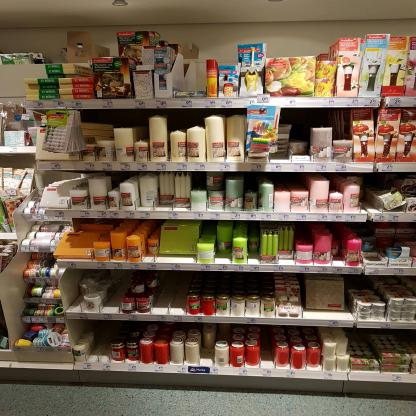Void: (194, 274, 268, 292), (157, 273, 186, 312), (176, 56, 206, 88), (64, 270, 80, 312), (104, 274, 119, 313), (360, 176, 377, 210), (260, 329, 274, 368), (92, 324, 107, 360), (275, 175, 306, 190), (348, 329, 370, 344), (349, 278, 375, 290), (291, 125, 309, 142), (190, 176, 205, 190), (200, 348, 212, 365), (381, 176, 394, 186)
